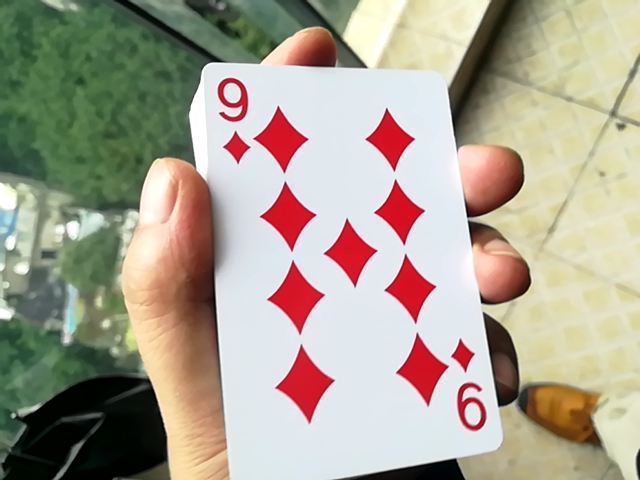fk 9: (174, 40, 496, 473)
